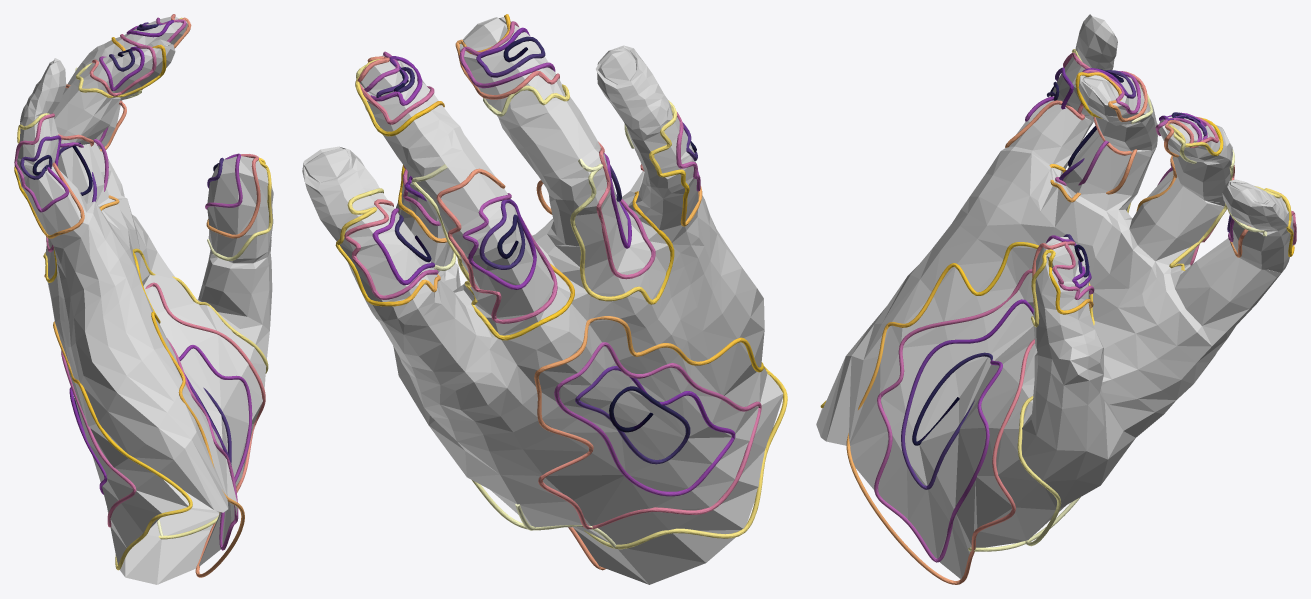
File: hand_ours_all_repositioned.glb
3 renders of one model, left to right at view 1: azimuth 30°, elevation 25°; view 2: azimuth 150°, elevation 25°; view 3: azimuth 270°, elevation 25°, orthographic. The views are drawn at different scales.
Visible parts, largest first — view 1: imagetostl_mesh0; view 2: imagetostl_mesh0; view 3: imagetostl_mesh0.
Part boxes in pixels (x1,y1,x2,y2): imagetostl_mesh0: (14,14,273,584); imagetostl_mesh0: (302,14,787,584); imagetostl_mesh0: (816,14,1296,584).
Bounding box in the file's own units: 77.85 × 143 × 118.
